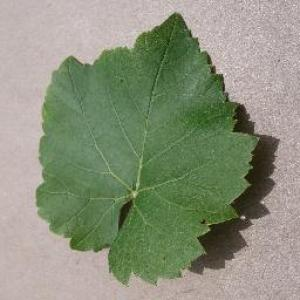Folha: (35, 11, 260, 287)
